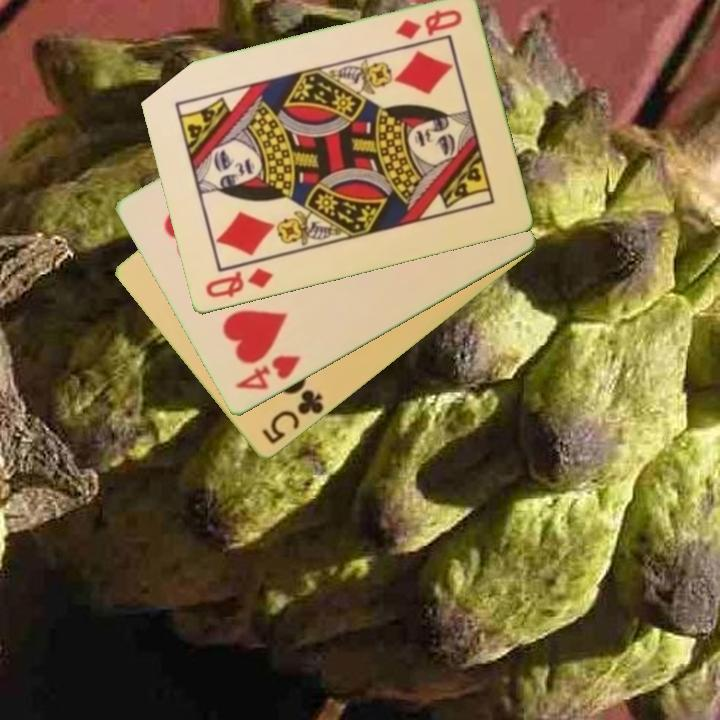4h: (231, 352, 304, 394)
5c: (258, 386, 327, 448)
Qd: (201, 264, 276, 301), (391, 6, 465, 43)
